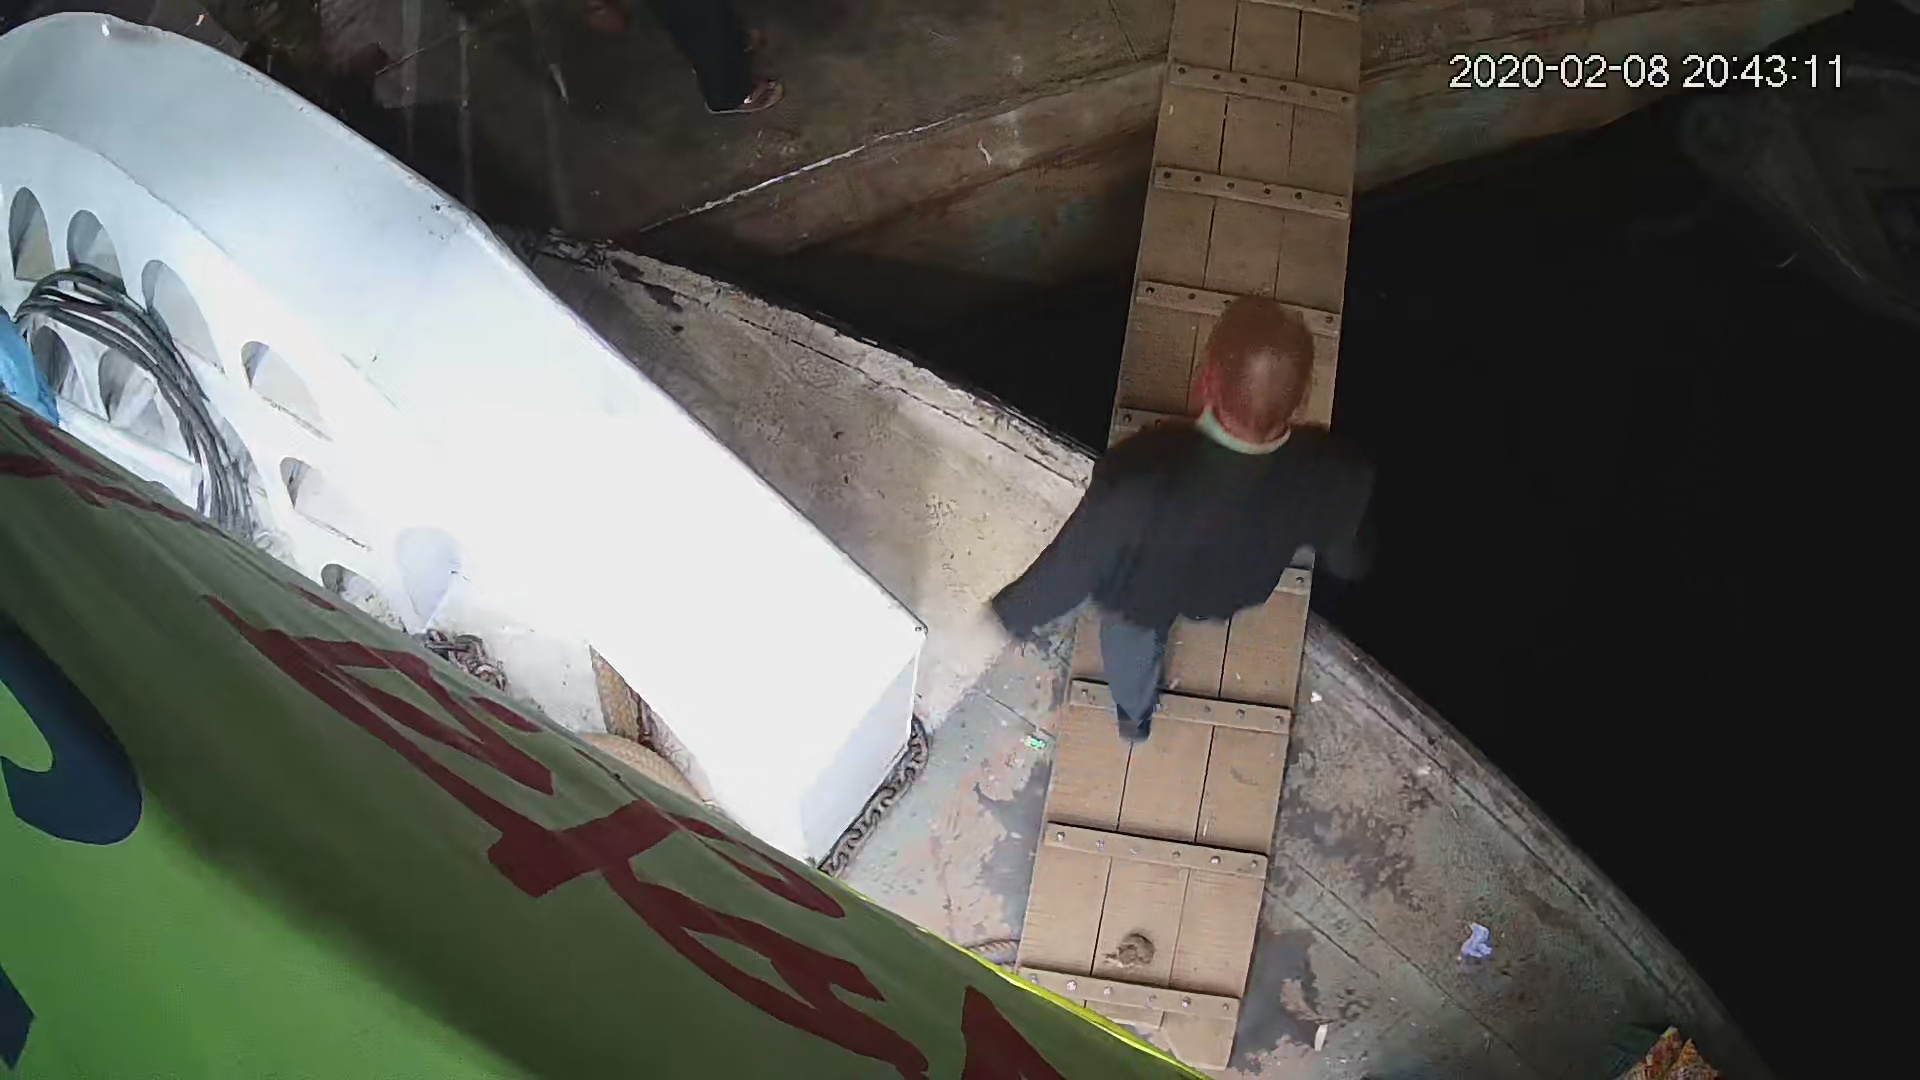person: (990, 286, 1379, 745)
